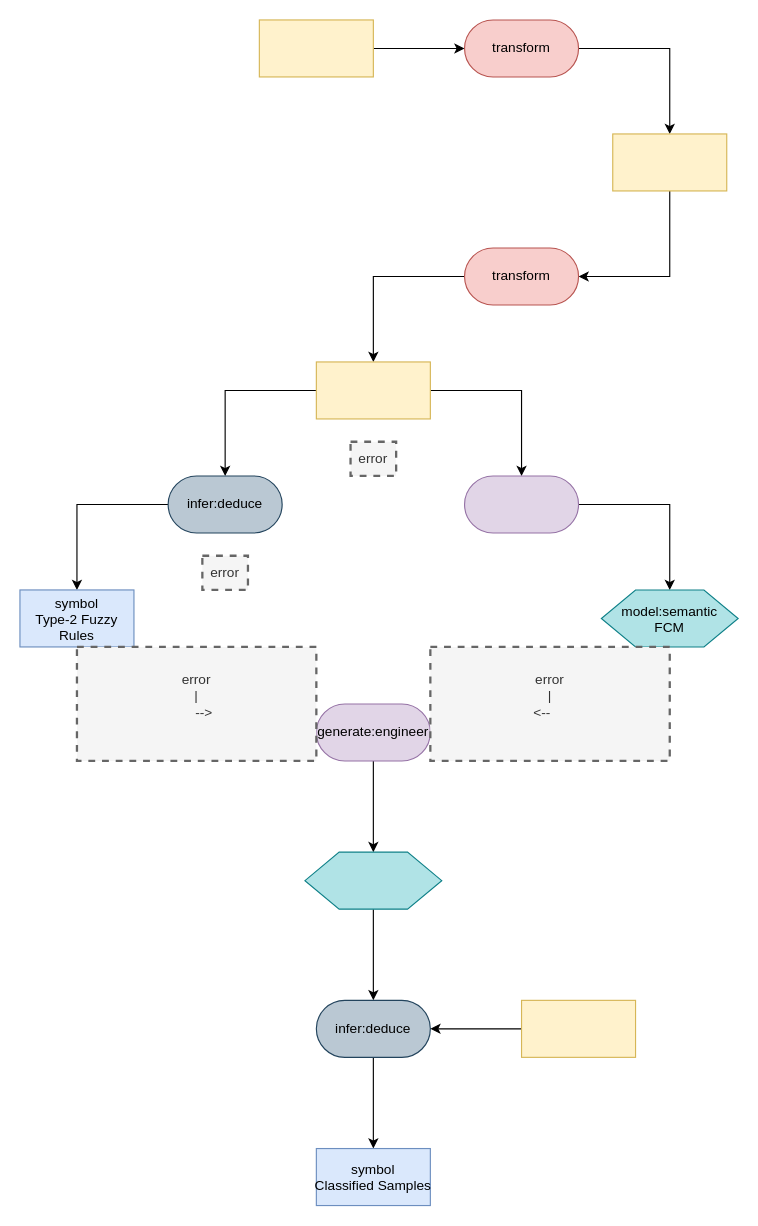
Some shapes in this 758 by 1226 pixel diagram are drawn without their labels. Here are the shapes that lost their labels. From the top down, the centre of each, then its label:
point 315,48: data:numeric Raw Gene Expression
point 669,162: data:numeric Normalized Gene Expression Data
point 372,390: data:numeric Ranked Informative Genes
point 521,504: generate:train
point 373,880: model:hybrid IT2FLS
point 578,1028: data:numeric Gene Expression Data
